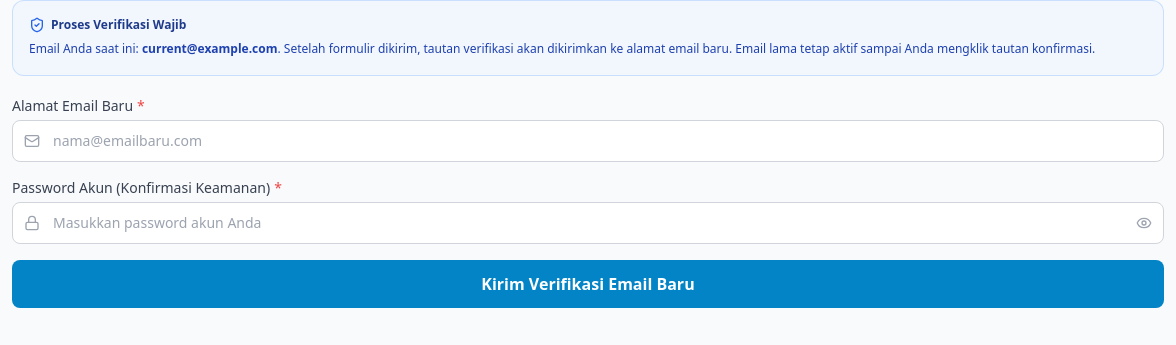
Test case: ChangeEmailForm Component › shows validation error for invalid email
Type "invalid-email" into the field with placeholder "nama@emailbaru.com" at (588, 140), box [12,120,1164,162]
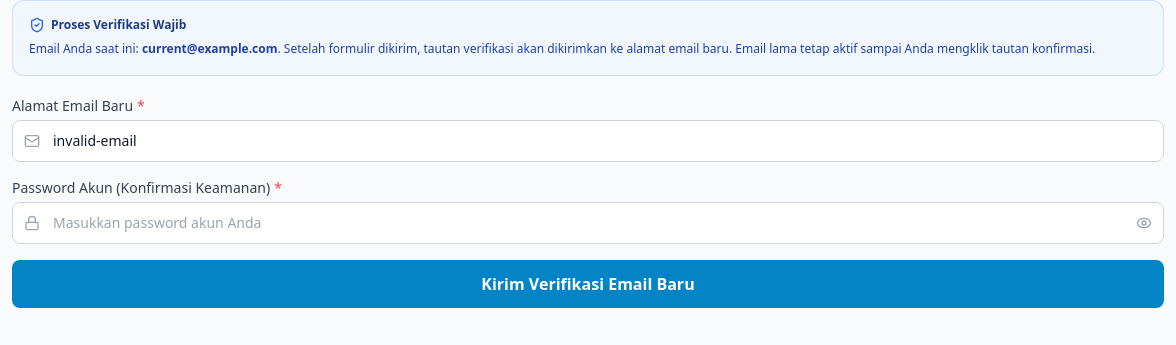
Type "password123" into the password field with placeholder "Masukkan password akun Anda" at (588, 222), box [12,202,1164,244]
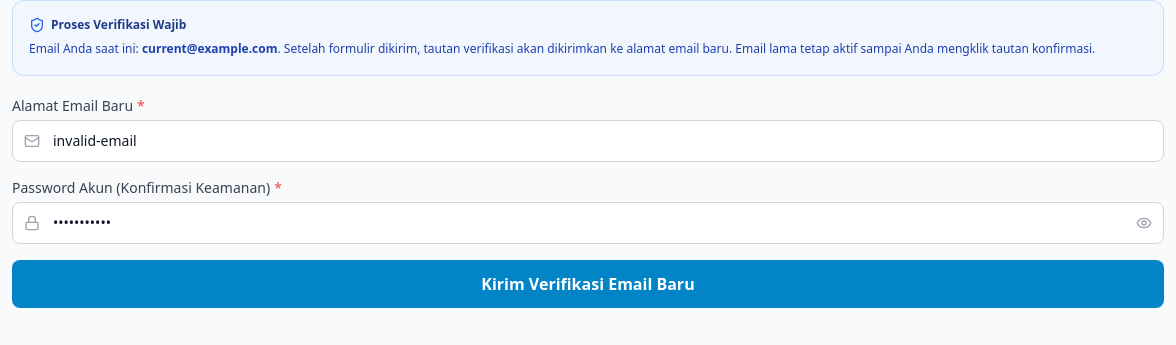
Click the button "Kirim Verifikasi Email Baru" at (588, 284), box [12,260,1164,308]
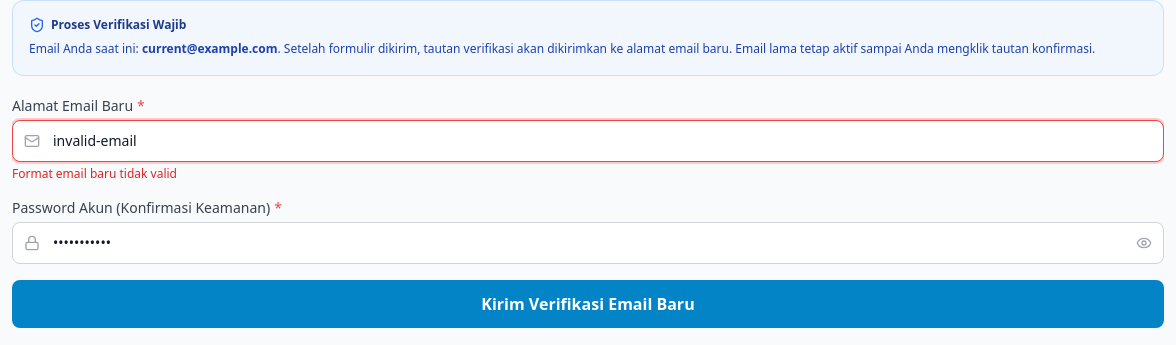
Check: the text "Format email baru tidak valid" is shown, box [12,164,177,182]
